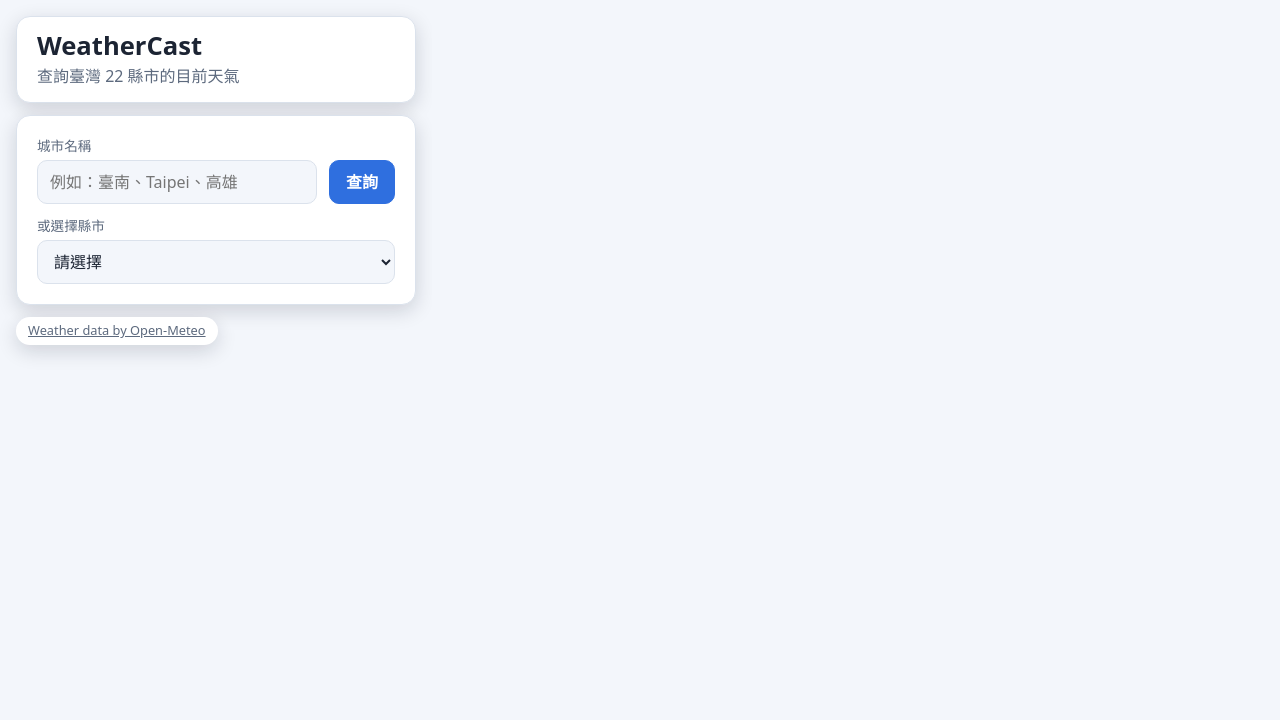
App › changes the weather background when switching cities, and resets it on errors
Type "Tainan" into the field labelled "城市名稱" at {"x": 177, "y": 182}, box [37, 160, 317, 204]
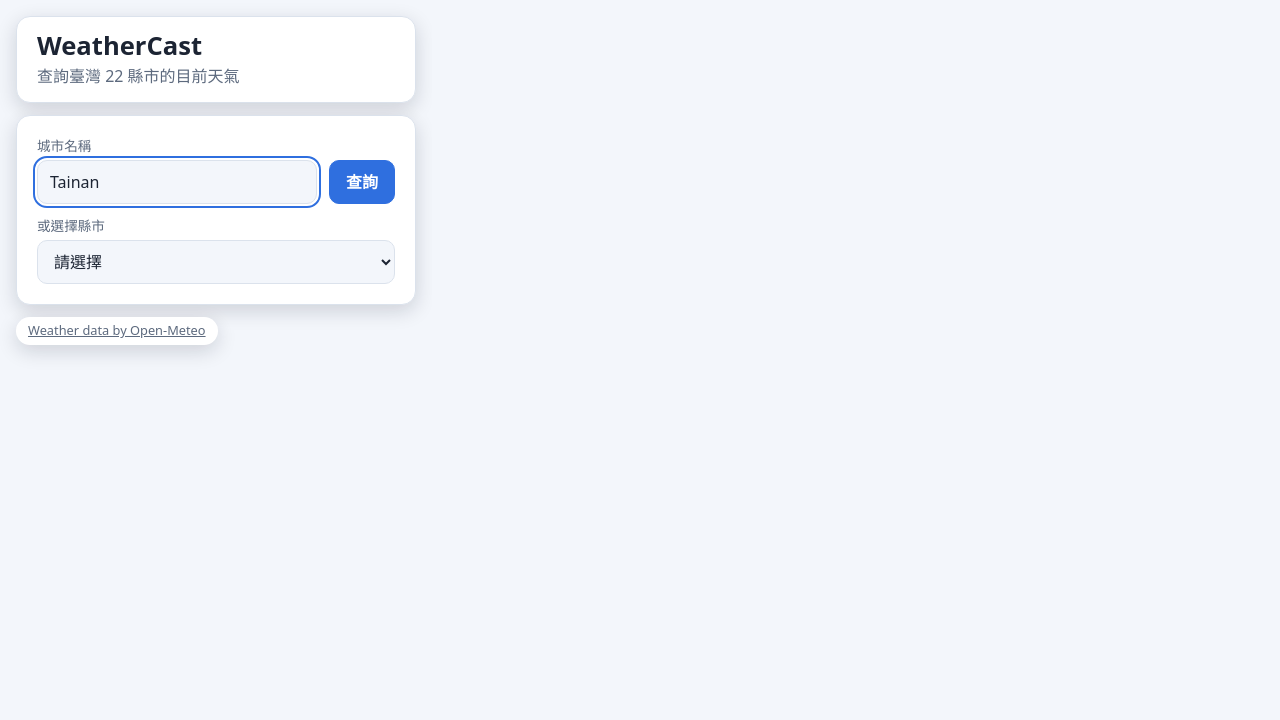
Click the button "查詢" at {"x": 362, "y": 182}, box [329, 160, 395, 204]
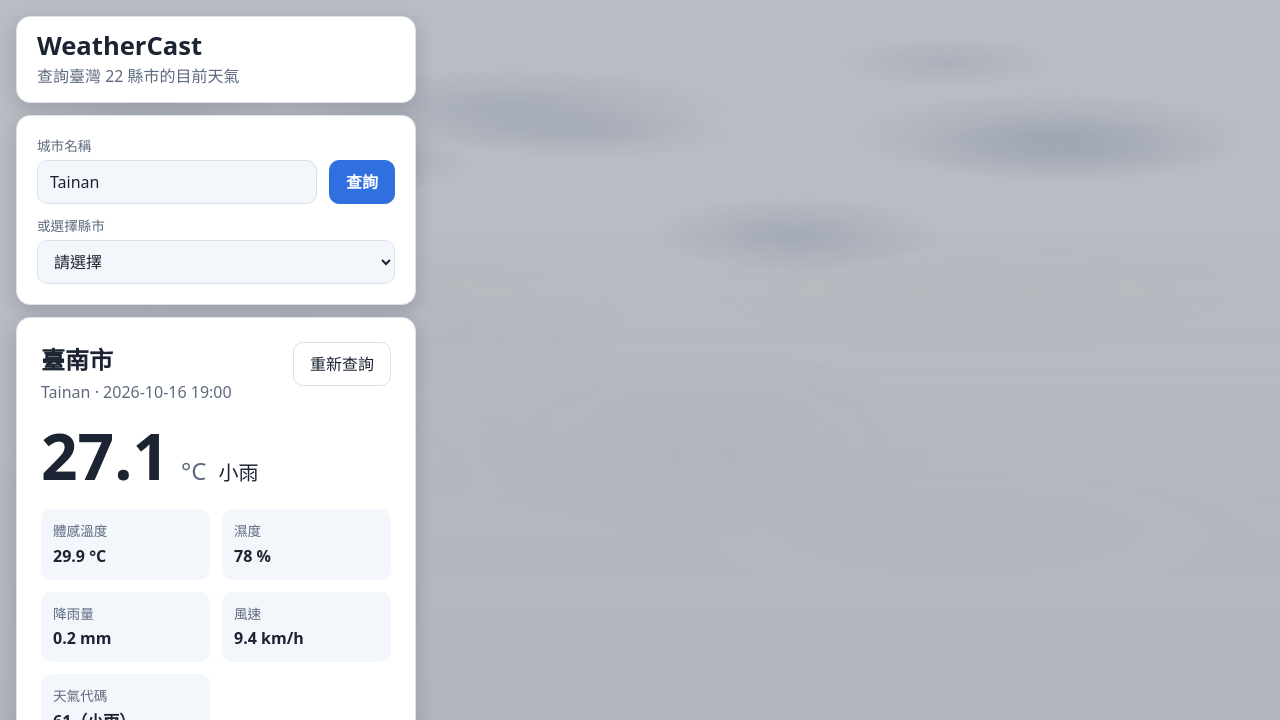
Check: the element that starts with "臺南市" is shown, box [16, 318, 416, 719]
Replace the text in the field labelled "城市名稱" with "Taipei" at {"x": 177, "y": 182}, box [37, 160, 317, 204]
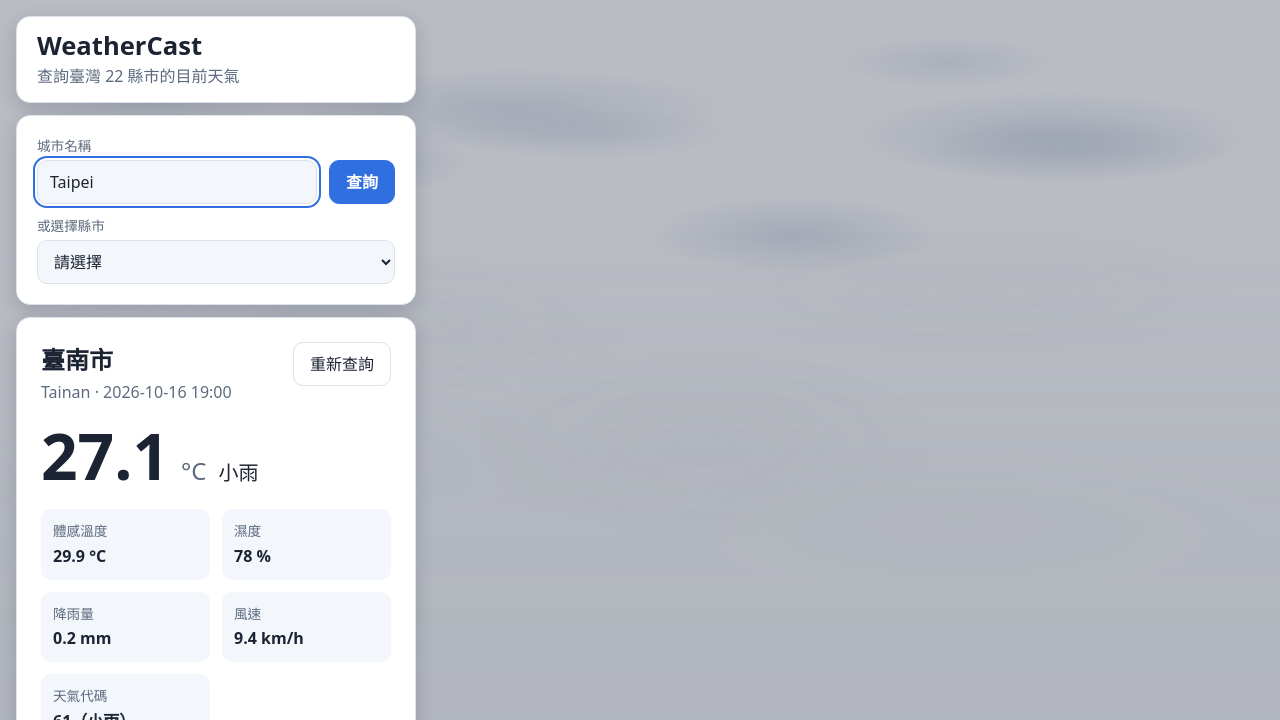
Click the button "查詢" at {"x": 362, "y": 182}, box [329, 160, 395, 204]
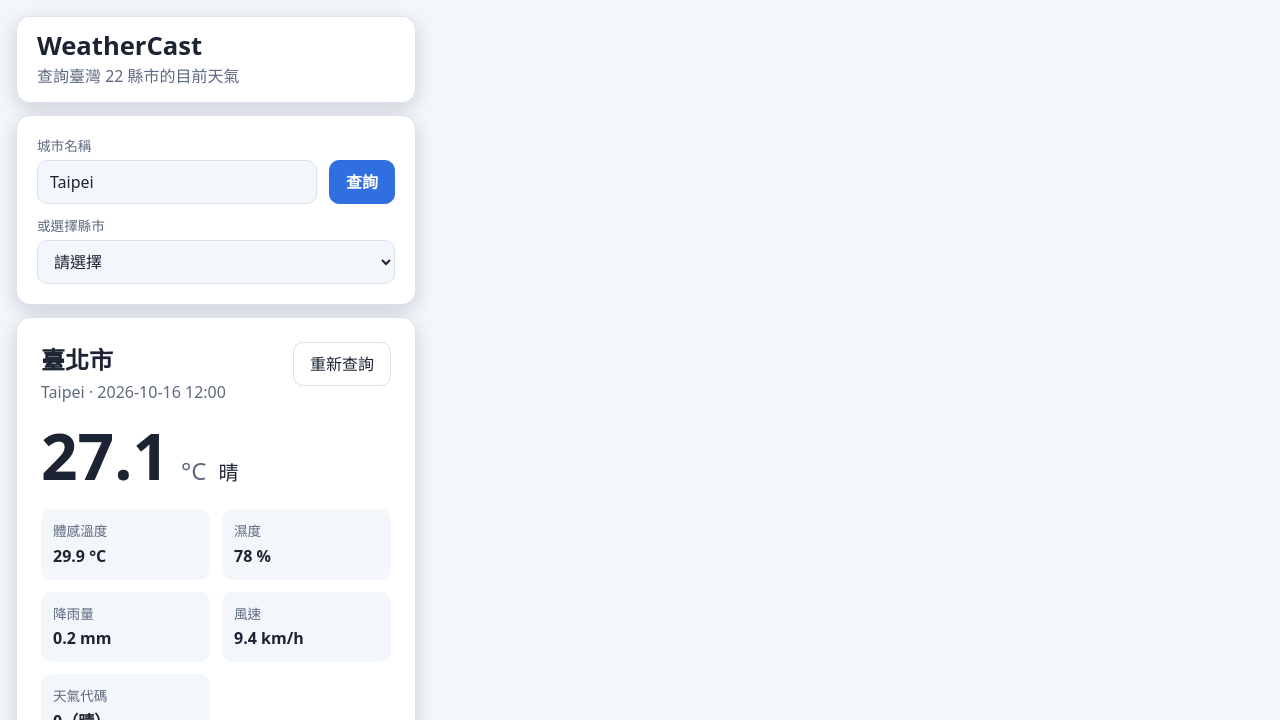
Check: the heading "臺北市" is shown, box [41, 344, 113, 376]
Replace the text in the field labelled "城市名稱" with "Tokyo" at {"x": 177, "y": 182}, box [37, 160, 317, 204]
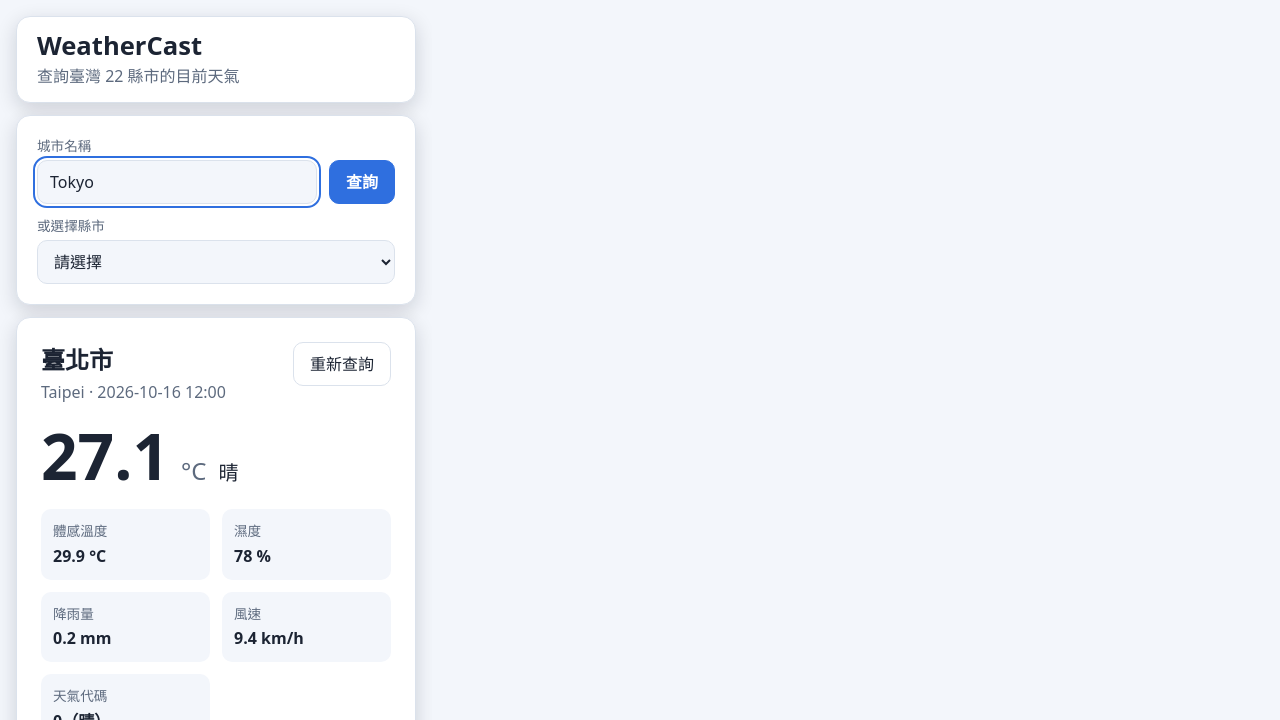
Click the button "查詢" at {"x": 362, "y": 182}, box [329, 160, 395, 204]
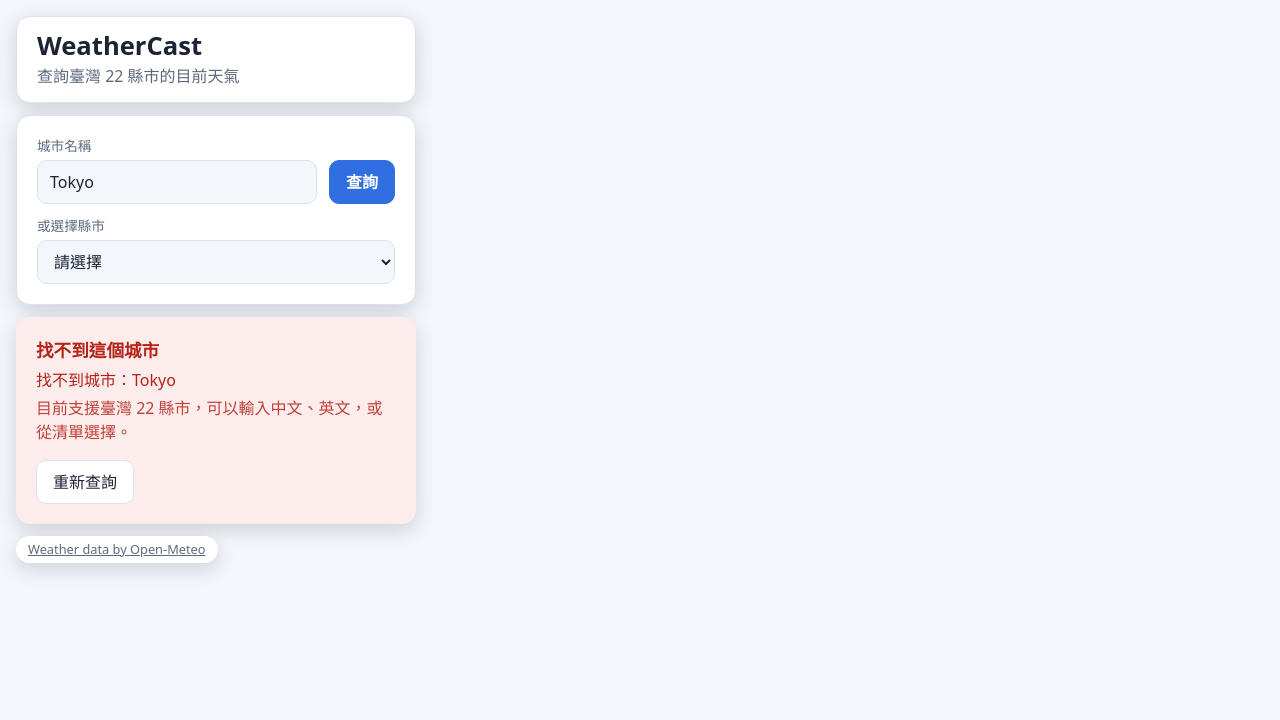
Check: the message "找不到這個城市 找不到城市：Tokyo 目前支援臺灣 22 縣市，可以輸入中文、英文，或從清單選擇。 重新查詢" is shown, box [16, 318, 416, 524]
